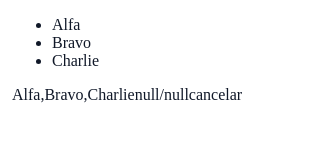
useSortable — pointer › reorders on drag and release
Press the mouse on the option "Alfa" at {"x": 66, "y": 24}, box [52,16,80,33]
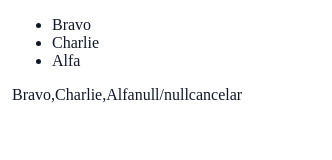
Expected: the text with test id "ordem" reads "Bravo,Charlie,Alfa", [12,86,135,103]
